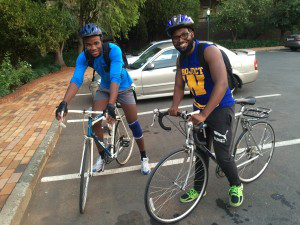bikerider: (140, 7, 280, 225), (45, 23, 152, 212)
